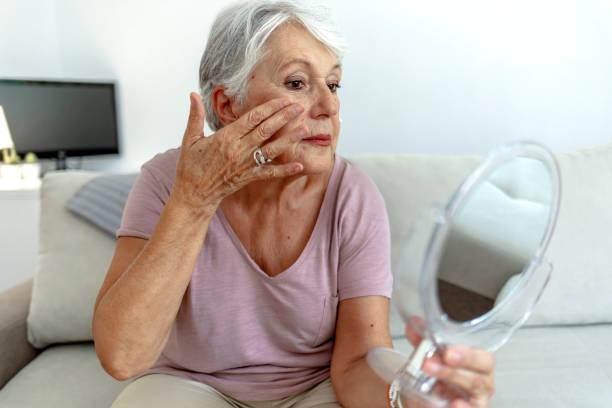Dry-Skin: (194, 120, 265, 207)
